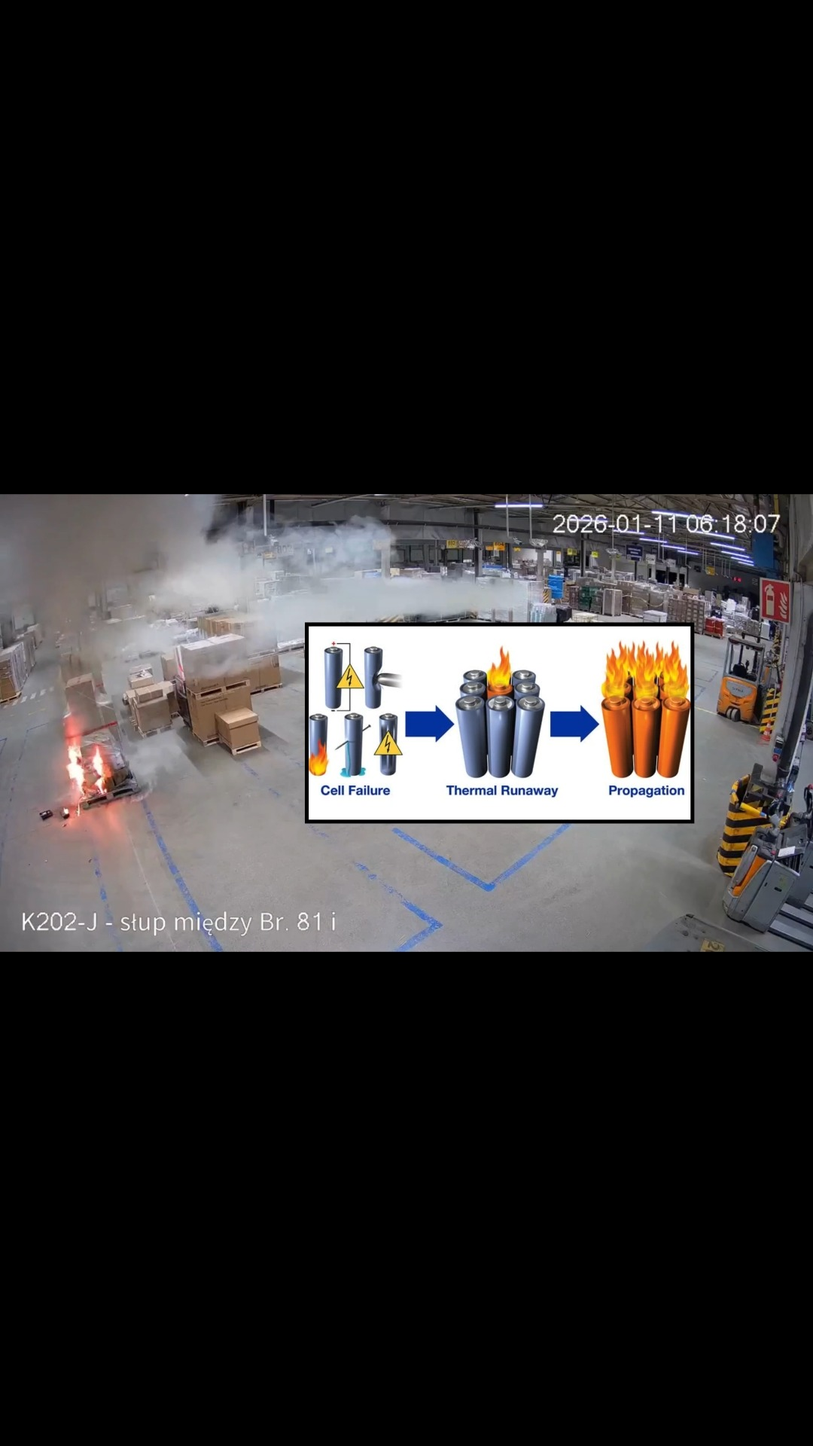fire: (601, 639, 688, 703), (63, 737, 114, 822), (486, 644, 514, 692), (308, 737, 331, 776)
smoke: (1, 494, 525, 743)
